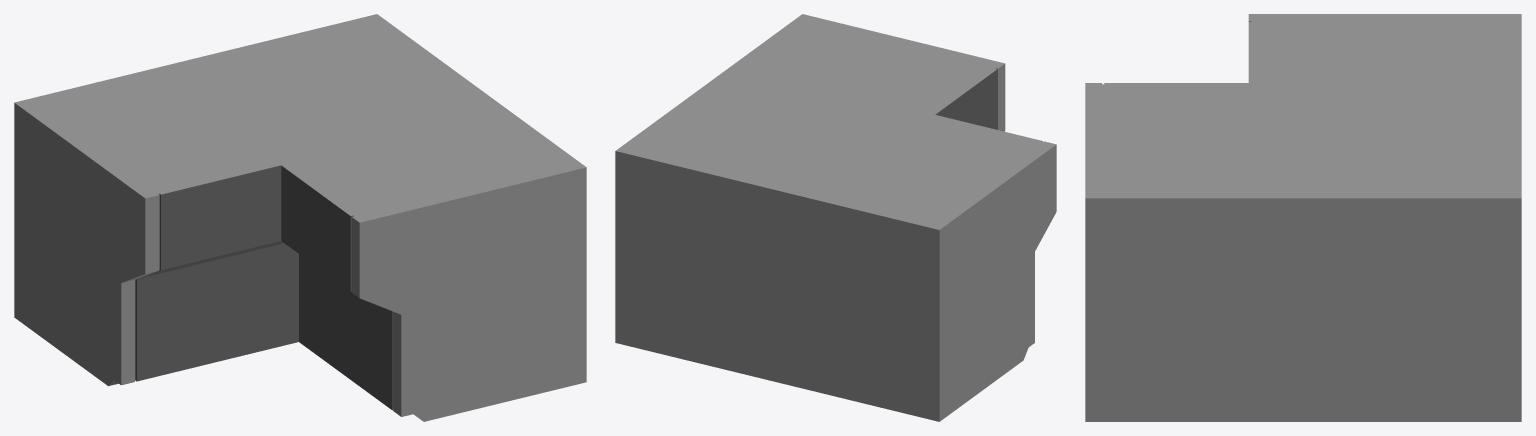
File: Desk_04_Corner.FBX
3 views of the same model, side by side, from view 1: azimuth 30°, elevation 25°; view 2: azimuth 150°, elevation 25°; view 3: azimuth 270°, elevation 25° (orthographic). The views are drawn at different scales.
Parts seen in each view (by area): view 1: Desk_04_Corner_LOD0; view 2: Desk_04_Corner_LOD0; view 3: Desk_04_Corner_LOD0.
Boxes of the visible parts, <box> form: Desk_04_Corner_LOD0: <box>14,14,586,421</box>; Desk_04_Corner_LOD0: <box>615,14,1056,421</box>; Desk_04_Corner_LOD0: <box>1085,14,1521,421</box>.
Size of what is drawn, in the model's own units: 73.54 by 41.6 by 73.54.
